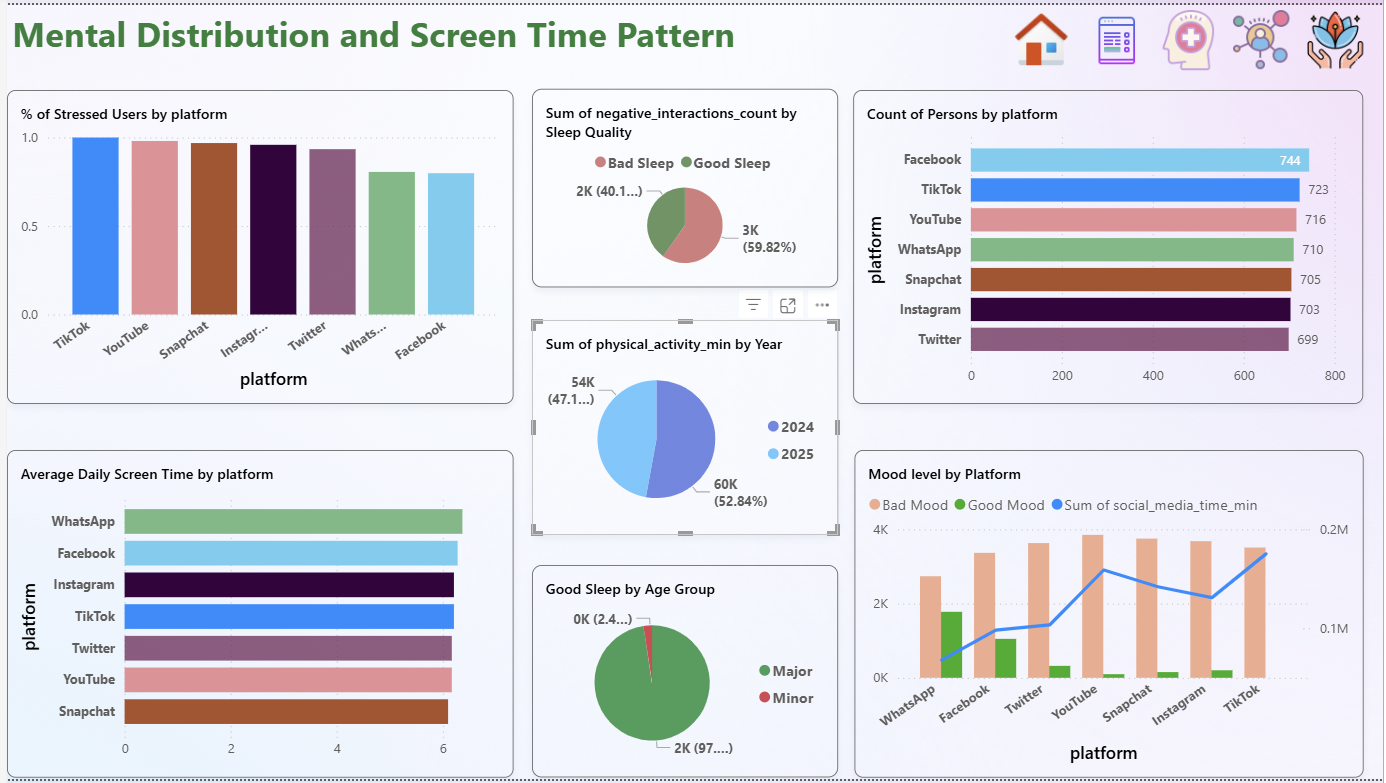

The page's visual inventory and layout, read from the dashboard file:
{"tool":"powerbi","page":{"name":"Mental Distribution & Time ","canvas":[1280,720],"ordinal":2},"visuals":[{"type":"image","box":[932.6,5.9,59.3,55.8],"z":0,"group":"g1"},{"type":"barChart","fields":{"Category":["mental_health_social_media_dataset.platform"],"Y":["mental_health_social_media_dataset.Average Daily Screen Time"]},"box":[0,414,470.9,304.7],"z":0},{"type":"image","box":[1064,4.7,69.8,55.8],"z":1000,"group":"g1"},{"type":"columnChart","fields":{"Category":["mental_health_social_media_dataset.platform"],"Y":["mental_health_social_media_dataset.% of Stressed Users"]},"box":[0,79.1,470.9,291.9],"z":1000},{"type":"image","box":[1131.4,4.7,67.4,55.8],"z":2000,"group":"g1"},{"type":"clusteredBarChart","fields":{"Category":["mental_health_social_media_dataset.platform"],"Y":["mental_health_social_media_dataset.Count of Persons"]},"box":[787.2,79.1,474.4,291.9],"z":2000},{"type":"image","box":[1198.9,4.7,73.3,55.8],"z":3000,"group":"g1"},{"type":"lineClusteredColumnComboChart","title":"Mood level by Platform","fields":{"Category":["mental_health_social_media_dataset.platform"],"Series":["mental_health_social_media_dataset.MoodLevel"],"Y":["Sum(mental_health_social_media_dataset.mood_level)"],"Y2":["Sum(mental_health_social_media_dataset.social_media_time_min)"]},"box":[788.4,414,473.3,304.7],"z":3000},{"type":"pieChart","fields":{"Category":["mental_health_social_media_dataset.Age Group"],"Y":["mental_health_social_media_dataset.Good Sleep"]},"box":[488.4,520.9,284.9,197.7],"z":4000},{"type":"pieChart","fields":{"Category":["mental_health_social_media_dataset.date.Variation.Date Hierarchy.Year"],"Y":["Sum(mental_health_social_media_dataset.physical_activity_min)"]},"box":[488.4,293,284.9,200],"z":5000},{"type":"pieChart","fields":{"Category":["mental_health_social_media_dataset.Sleep Quality"],"Y":["Sum(mental_health_social_media_dataset.negative_interactions_count)"]},"box":[488.4,77.9,284.9,184.9],"z":6000},{"type":"textbox","box":[0,0,993.4,60.6],"z":7000},{"type":"group","id":"g1","title":"Group 1","box":[932.6,4.7,339.5,57],"z":8000},{"type":"image","box":[1001.2,5.9,62.8,54.7],"z":9012,"group":"g1"}]}

Visuals, with their boxes in screenshot pixels (x1, y1, x2, y2), scaled from the page's 1280x720 canvas onto the 1386x783 screenshot:
image: box=[1010, 6, 1074, 67]
barChart - mental_health_social_media_dataset.platform x mental_health_social_media_dataset.Average Daily Screen Time: box=[0, 450, 510, 782]
image: box=[1152, 5, 1228, 66]
columnChart - mental_health_social_media_dataset.platform x mental_health_social_media_dataset.% of Stressed Users: box=[0, 86, 510, 403]
image: box=[1225, 5, 1298, 66]
clusteredBarChart - mental_health_social_media_dataset.platform x mental_health_social_media_dataset.Count of Persons: box=[852, 86, 1366, 403]
image: box=[1298, 5, 1378, 66]
"Mood level by Platform" lineClusteredColumnComboChart: box=[854, 450, 1366, 782]
pieChart - mental_health_social_media_dataset.Age Group x mental_health_social_media_dataset.Good Sleep: box=[529, 566, 837, 781]
pieChart - mental_health_social_media_dataset.date.Variation.Date Hierarchy.Year x Sum(mental_health_social_media_dataset.physical_activity_min): box=[529, 319, 837, 536]
pieChart - mental_health_social_media_dataset.Sleep Quality x Sum(mental_health_social_media_dataset.negative_interactions_count): box=[529, 85, 837, 286]
textbox: box=[0, 0, 1076, 66]
"Group 1" group: box=[1010, 5, 1377, 67]
image: box=[1084, 6, 1152, 66]
